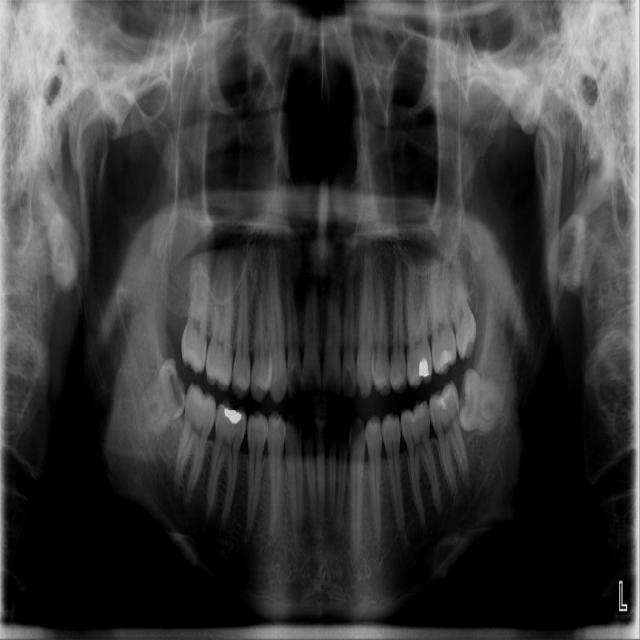Filling: (419, 353, 432, 382), (221, 407, 242, 424)
impacted tooth: (135, 359, 185, 433), (458, 368, 510, 432)
